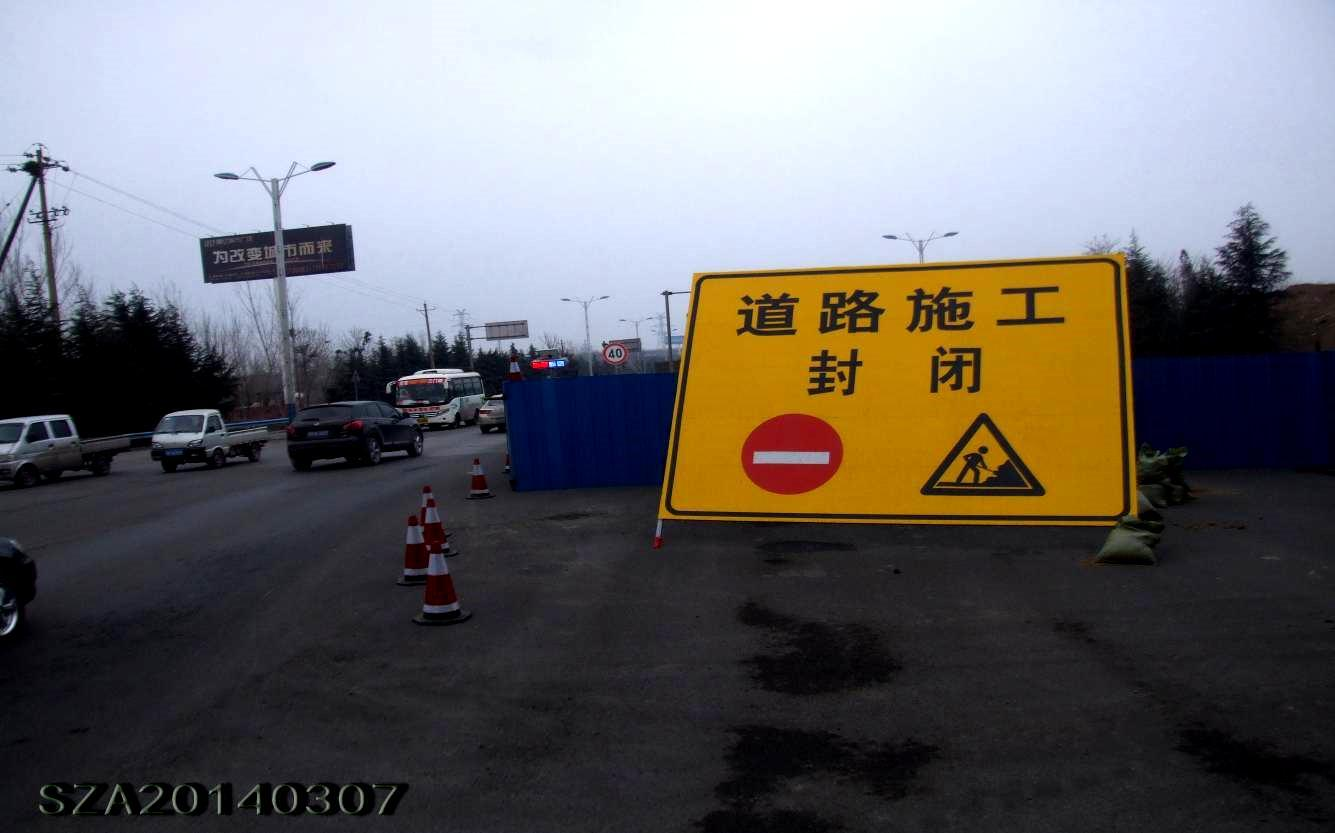sign: (660, 254, 1140, 535)
